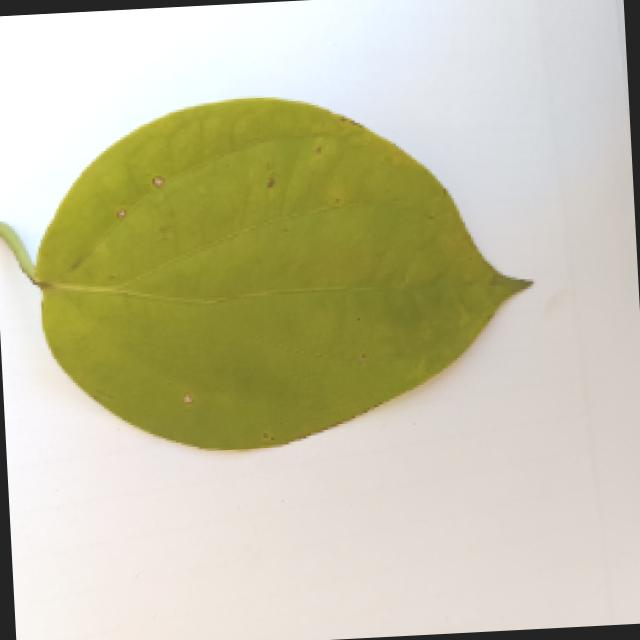slow-decline: (0, 65, 559, 460)
